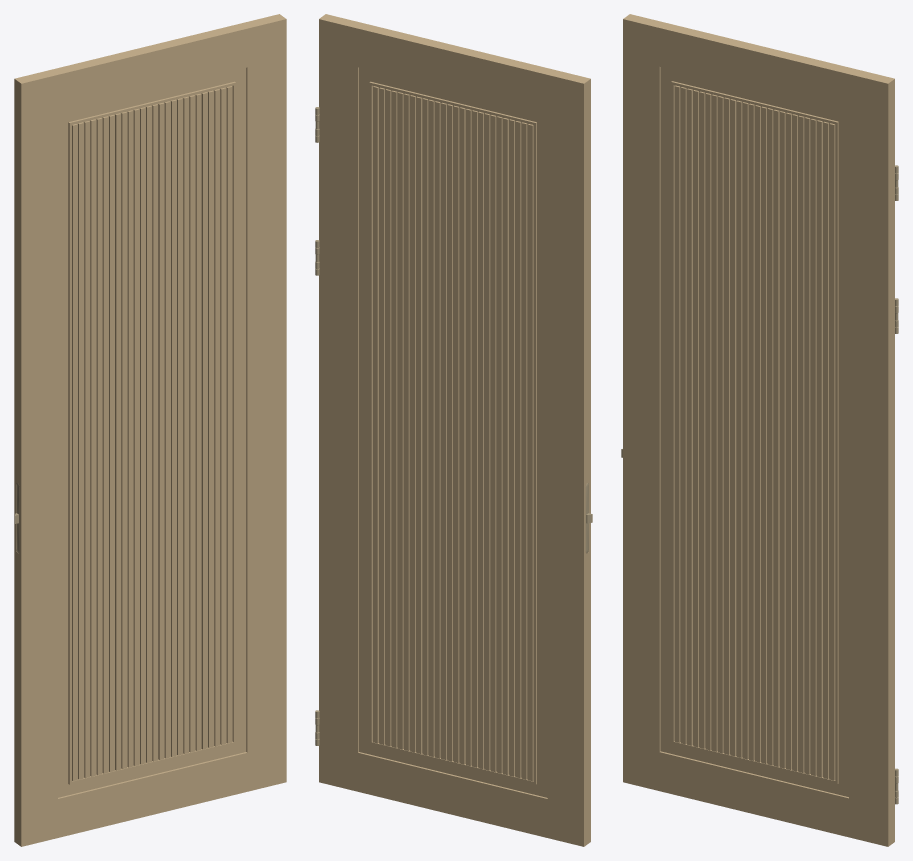
Rendered from 9_PREMIUM_DOOR.glb.
The picture shows the model from 3 angles, left to right: view 1: azimuth 30°, elevation 25°; view 2: azimuth 150°, elevation 25°; view 3: azimuth 330°, elevation 25°; orthographic projection.
Visible parts, largest first — view 1: 9_PREMIUM_DOOR; view 2: 9_PREMIUM_DOOR; view 3: 9_PREMIUM_DOOR.
Part boxes in pixels (x1=…): 9_PREMIUM_DOOR: x1=14, y1=14, x2=286, y2=846; 9_PREMIUM_DOOR: x1=315, y1=14, x2=592, y2=846; 9_PREMIUM_DOOR: x1=621, y1=14, x2=898, y2=846.
Size of the model in its own units: 0.8178 by 2.2 by 0.0473.
